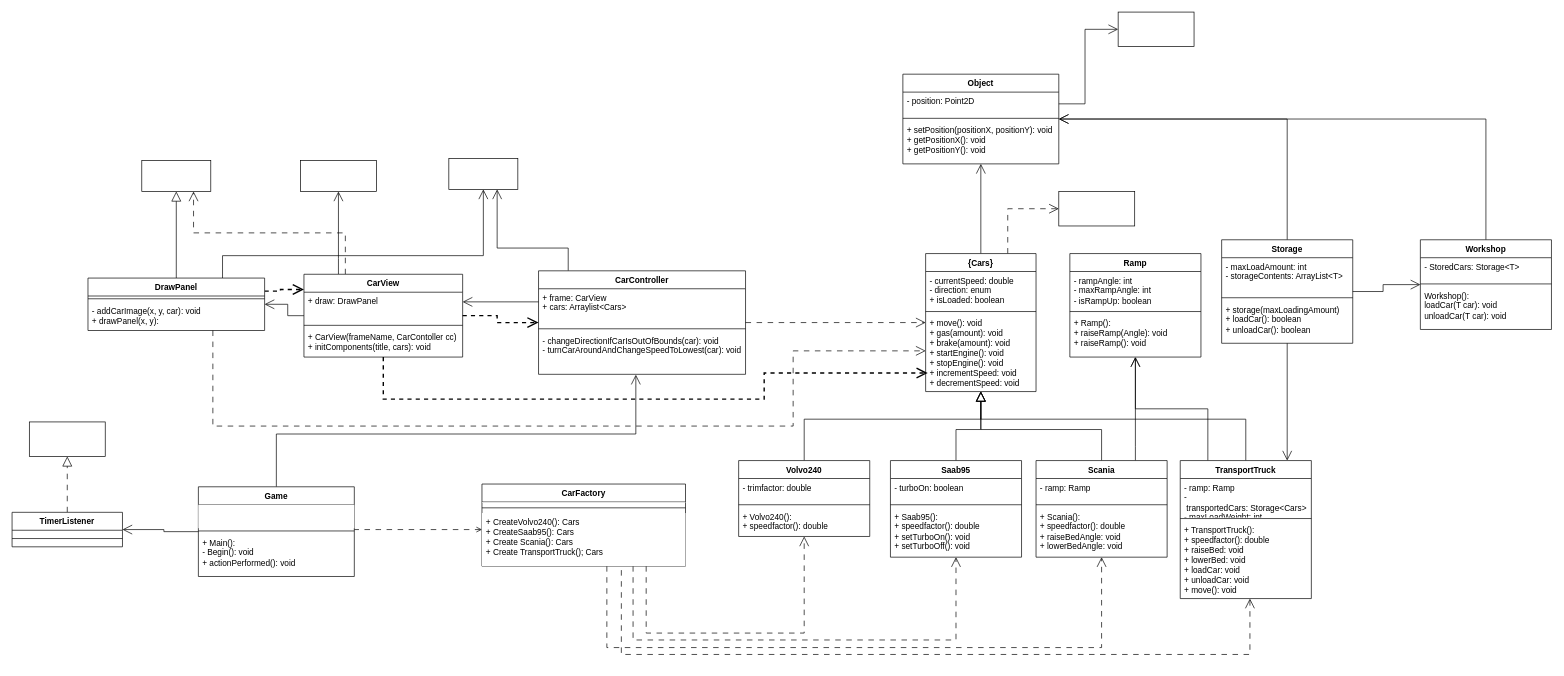
The diagram is 1564 pixels wide and 676 high, and some of its shapes have lost their labels. Here are the shapes that lost their labels. From the top down, the centre of each, then its label:
At (x=1155, y=29): "Point2D".
At (x=176, y=175): "Jpanel".
At (x=338, y=175): "JFrame".
At (x=483, y=173): "Hashmap".
At (x=1096, y=208): "«interface» Movable".
At (x=67, y=438): "«interface» ActionListener".
At (x=276, y=516): "- Timer(delay, TimerListener())".
